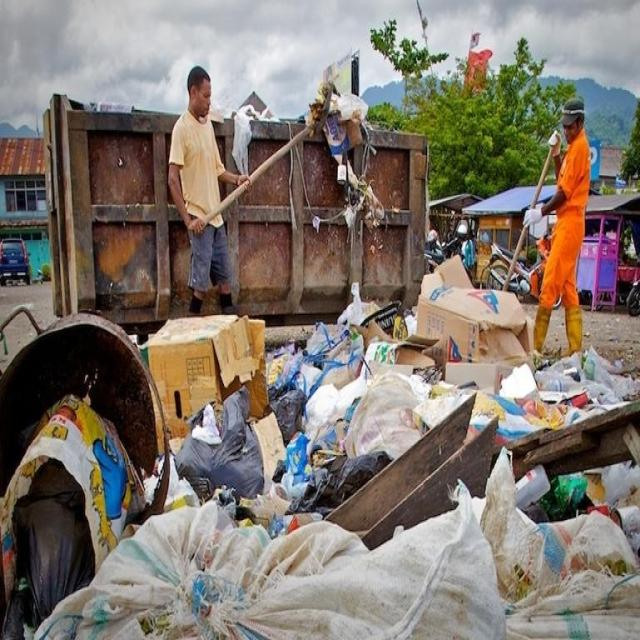garbage: (2, 288, 638, 638)
